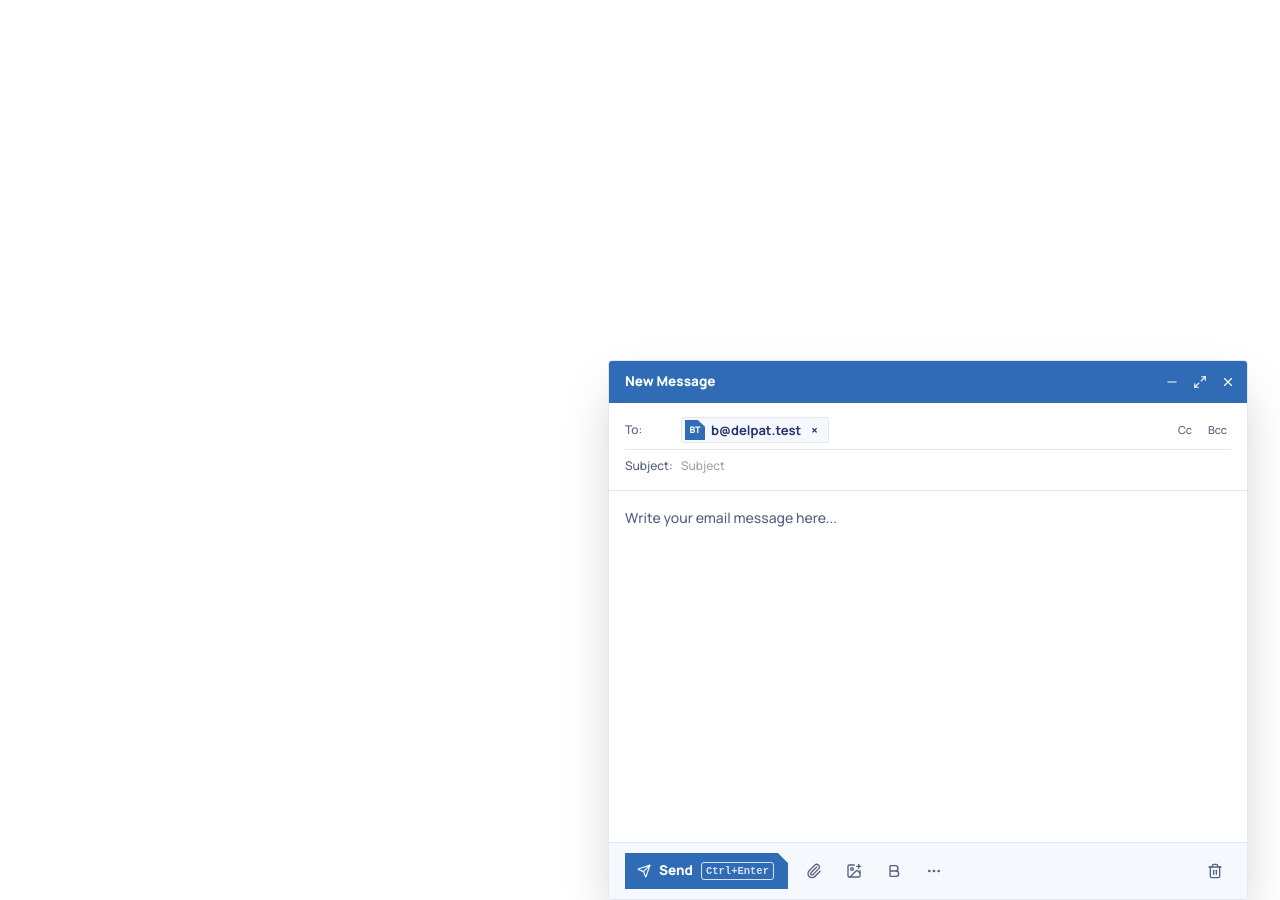
Test: composer footer and chips › keeps Templates and Plain text in one menu (the signature lives in Settings) and the bottom bar on one row
What coordinates should you click on to do the following:
click the button named "More composer options"
I would click on:
 (934, 871)
Its box is [916,853,952,889].
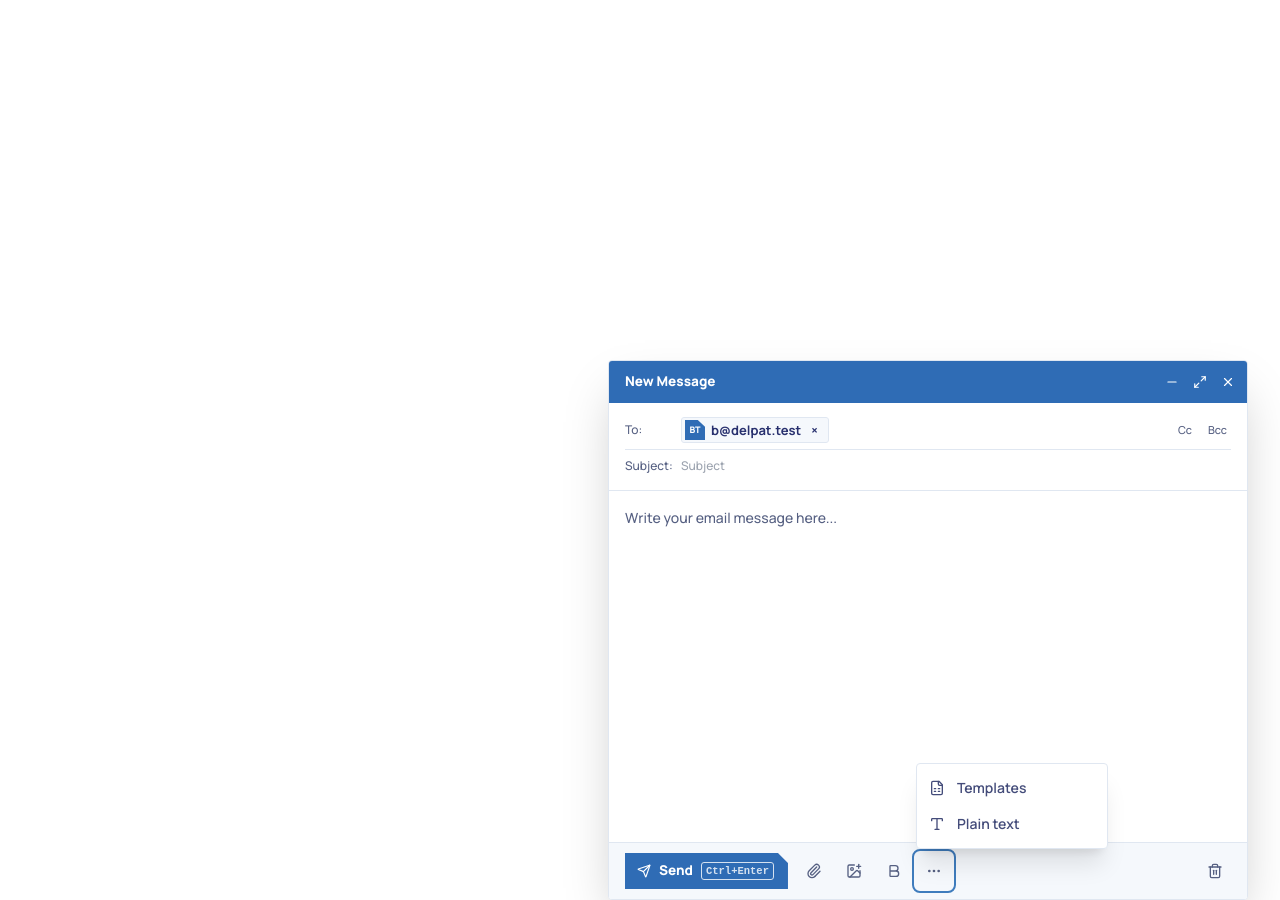
Now the menu item "Templates" is shown, box [917,770,1107,806]
Now the menu item "Plain text" is shown, box [917,806,1107,842]
